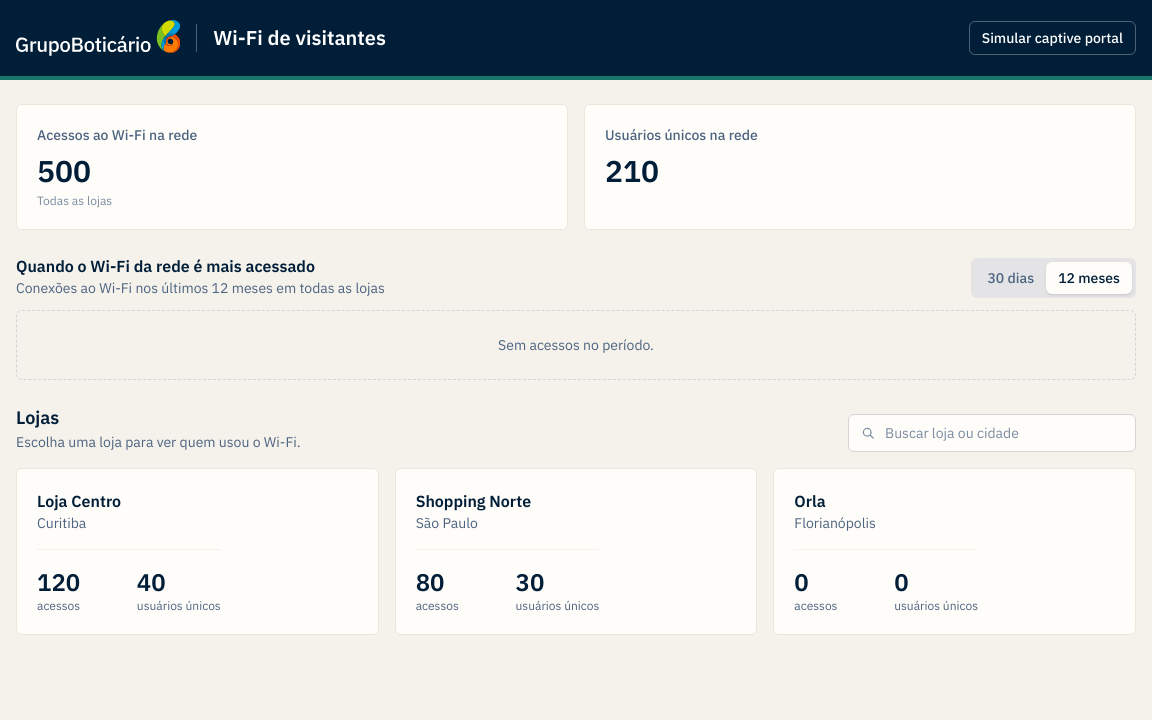
Test: DashboardPage: grade de lojas › filtra a grade pelo nome ou cidade, sem ligar pra acento
Check: the button "Loja Centro Curitiba 120 acessos 40 usuários únicos" is shown, box [16,468,379,635]
Type "sao paulo" into the search field labelled "Buscar loja".
click(992, 433); type("sao paulo")  # box [848,414,1136,452]
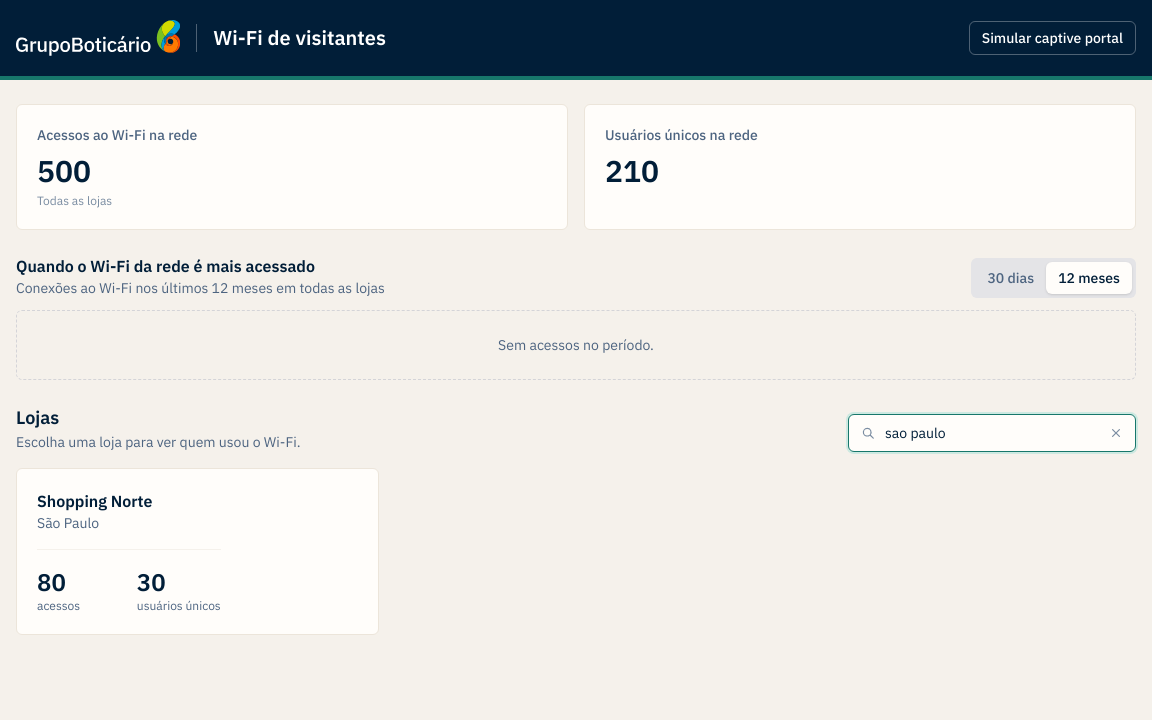
Check: the number of list items is 1, box [16,468,379,635]
Replace the text in the search field named "Buscar loja" with "xyz" at coordinates (992, 433), box [848,414,1136,452]
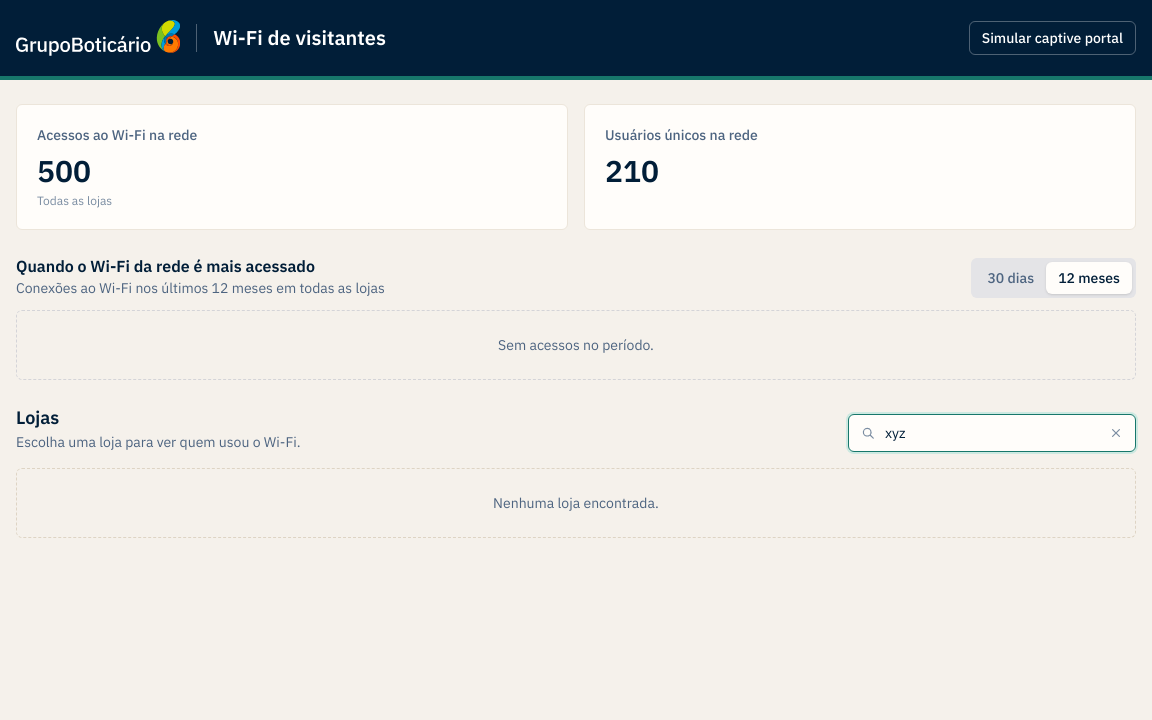
Check: the text "Nenhuma loja encontrada." is shown, box [16,468,1136,538]
